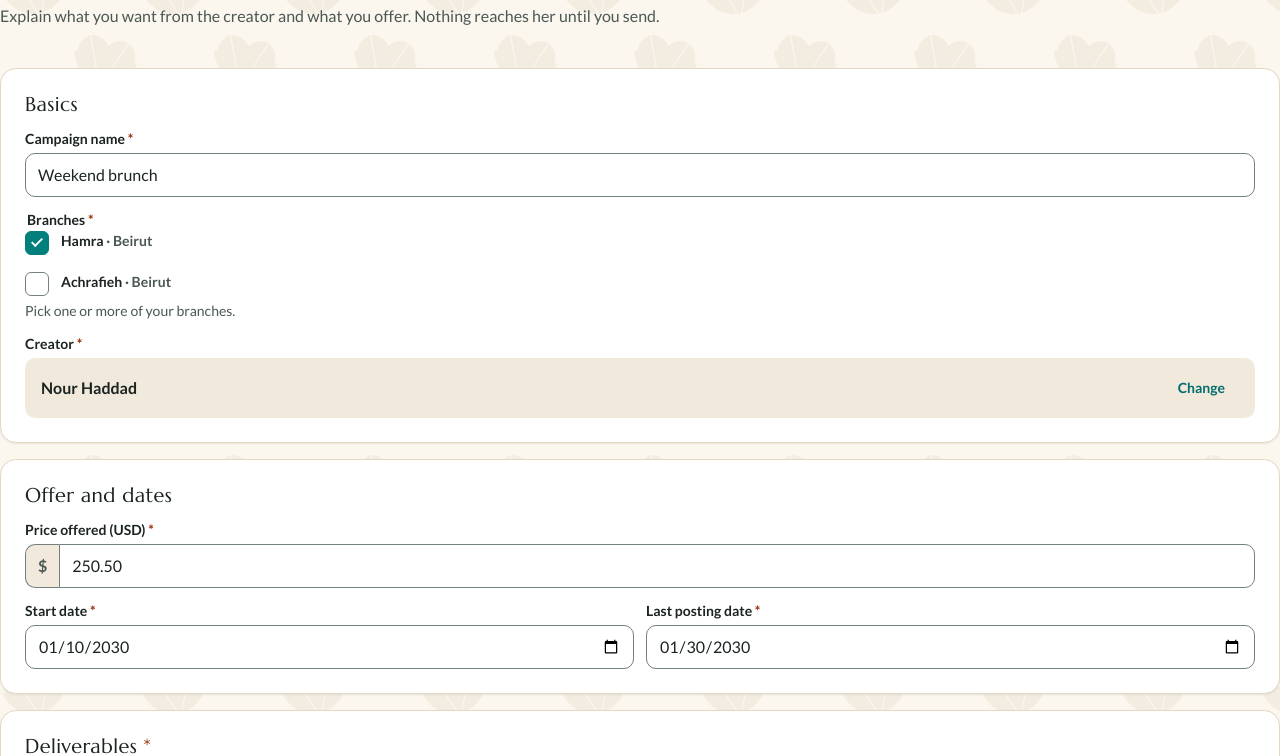
Scenario: reopens a draft filled in, and sends it with the edited details
Check: the field labelled "Price offered (USD) *" holds "250.50", box [59,544,1255,588]
Check: the date field labelled "Start date *" holds "2030-01-10", box [25,625,634,669]
Replace the text in the field labelled "Campaign name *" with "Brunch, edited": (640, 175) [25,153,1255,197]
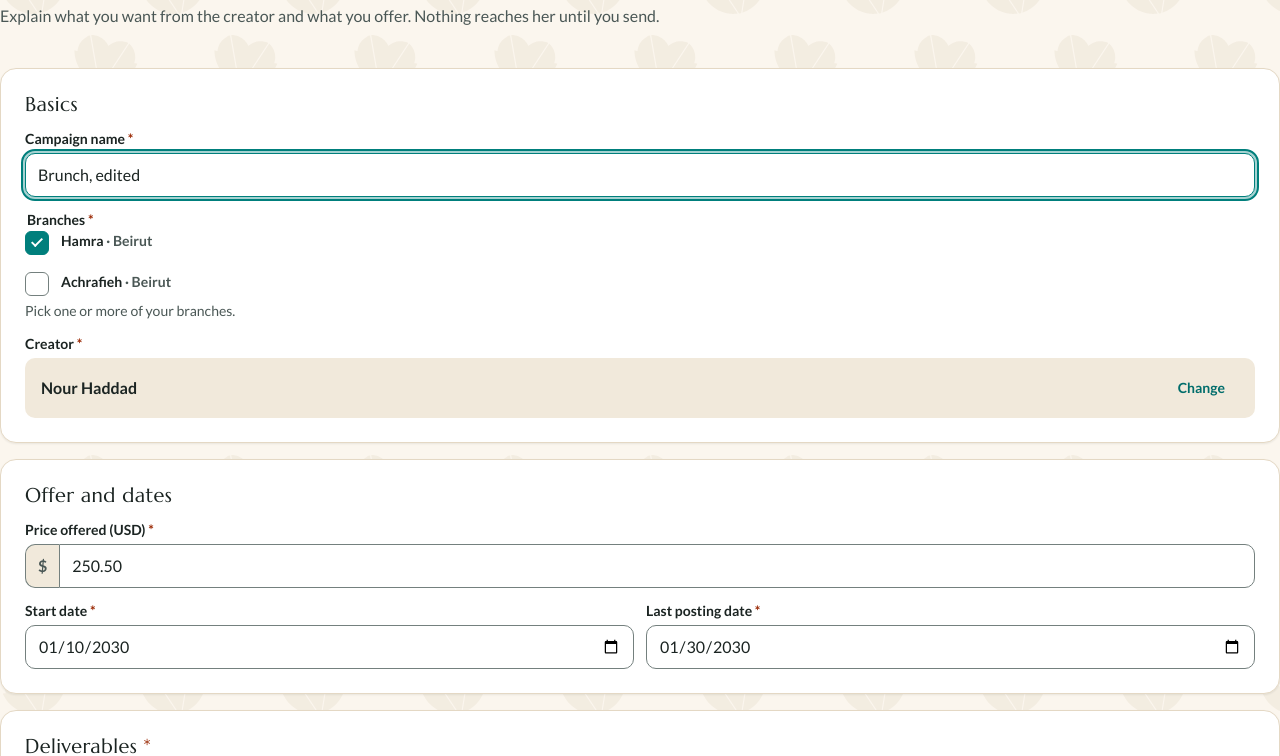
Replace the text in the field labelled "Price offered (USD) *" with "300": (657, 566) [59,544,1255,588]
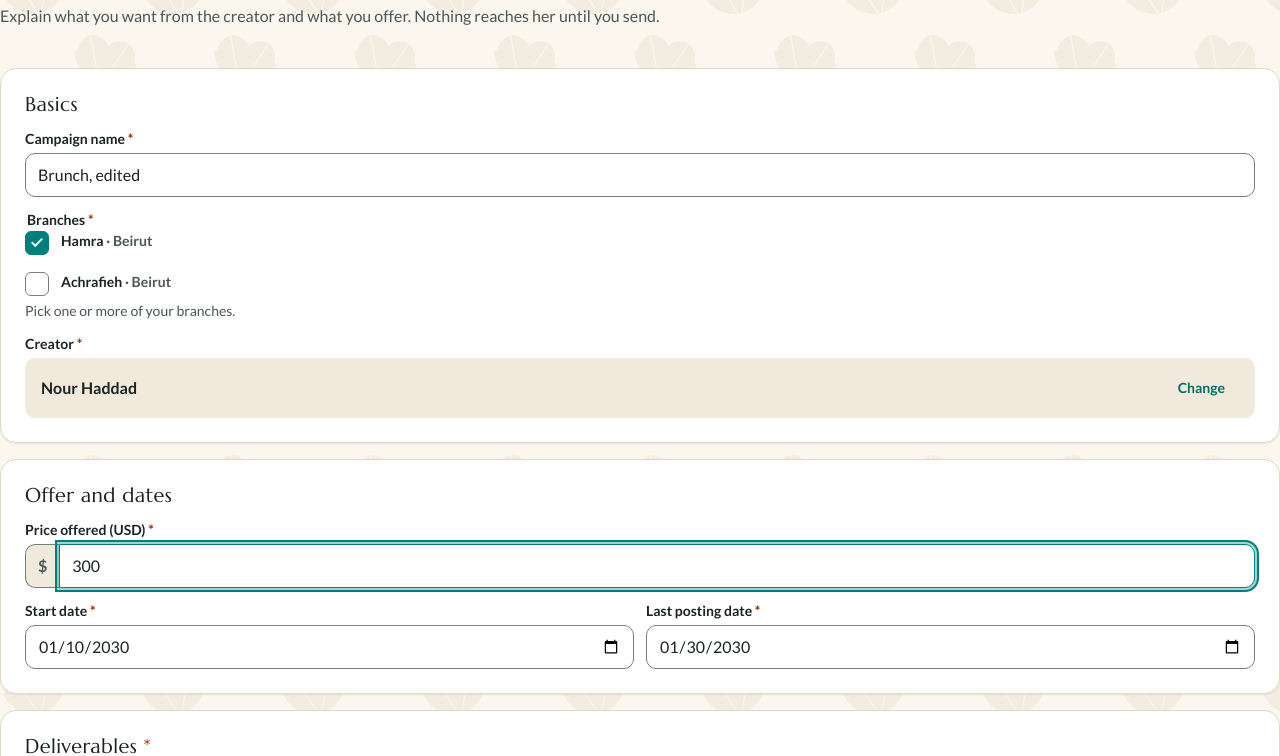
Click the checkbox labelled "Achrafieh · Beirut": (98, 284) [25,272,171,296]
(page scrolled)
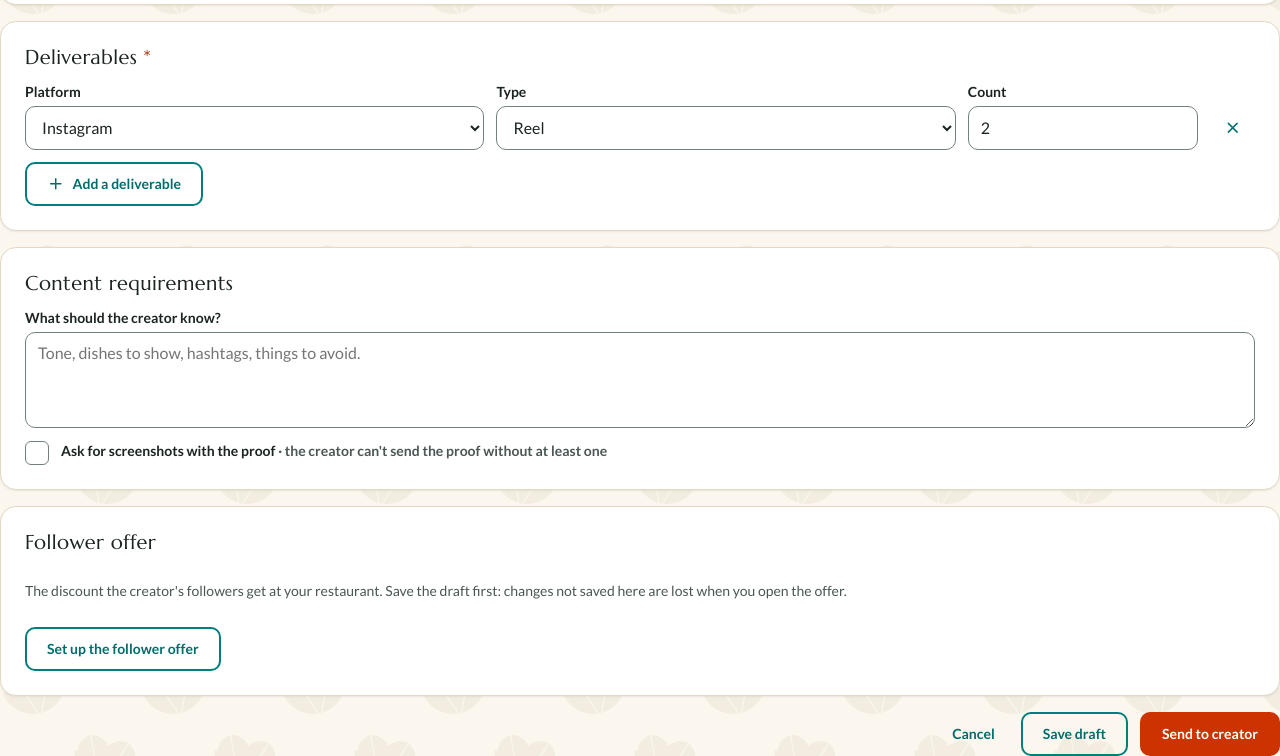
Click the button "Send to creator": (1210, 734) [1140,712,1279,755]
(page scrolled)
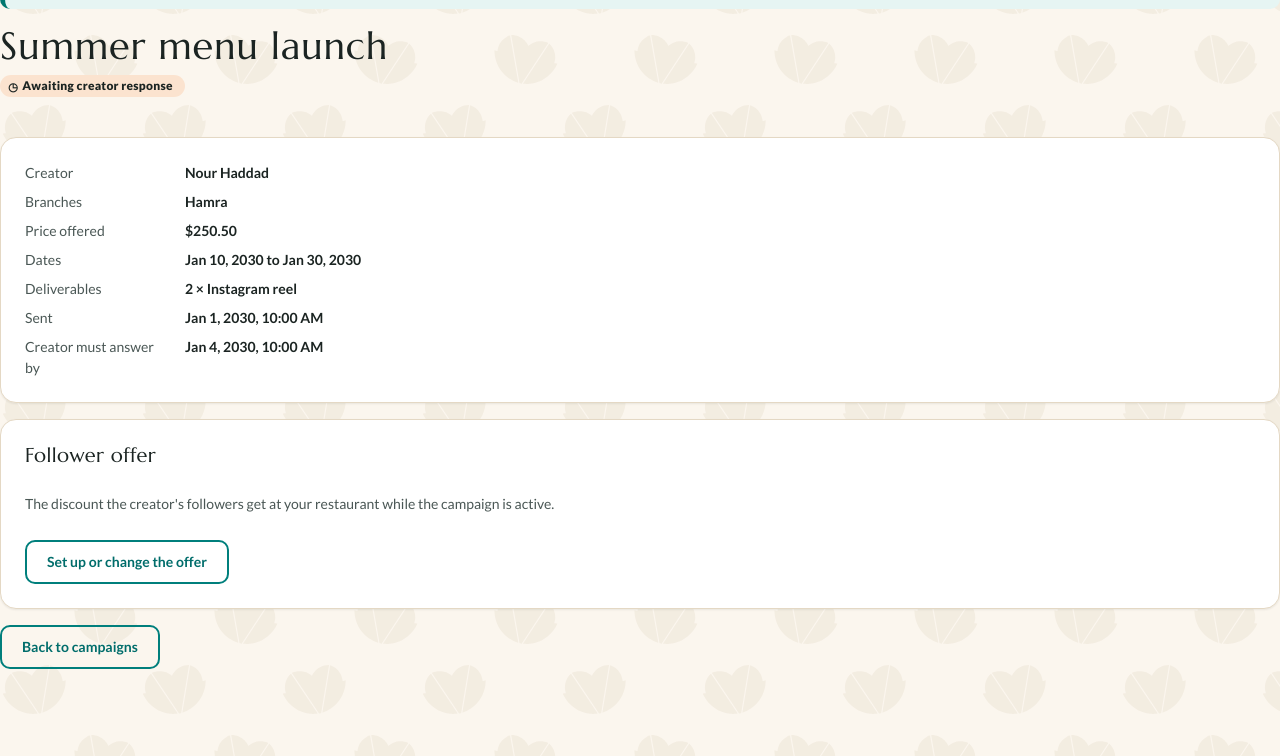
Check: the text "Awaiting creator response" is shown, box [0,75,185,97]
